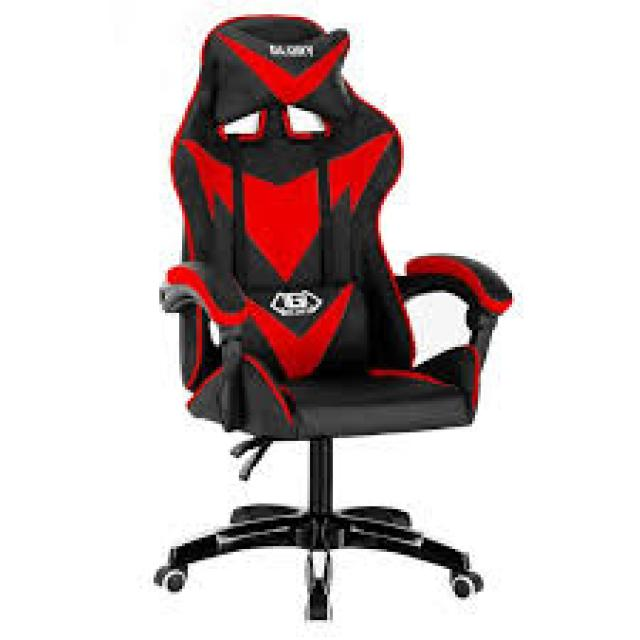bottle: (150, 11, 512, 624)
